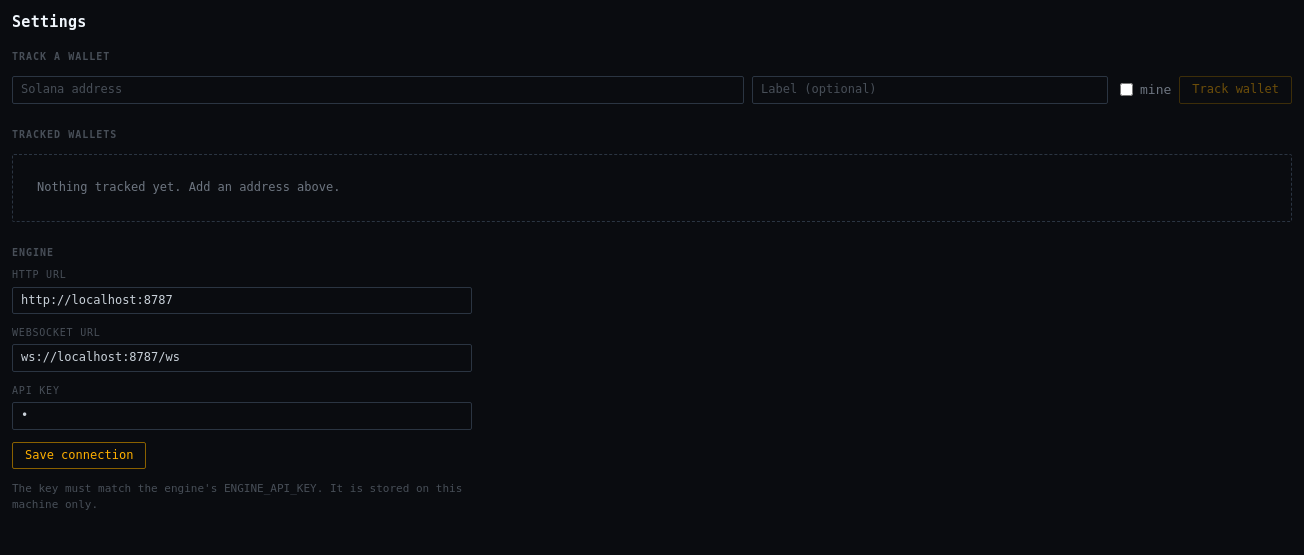
Test: SettingsTab › confirms that the connection was saved
expect the text "Saved. Reconnecting." is not shown: met
Click the button "Save connection": (79, 455) [12, 442, 146, 469]
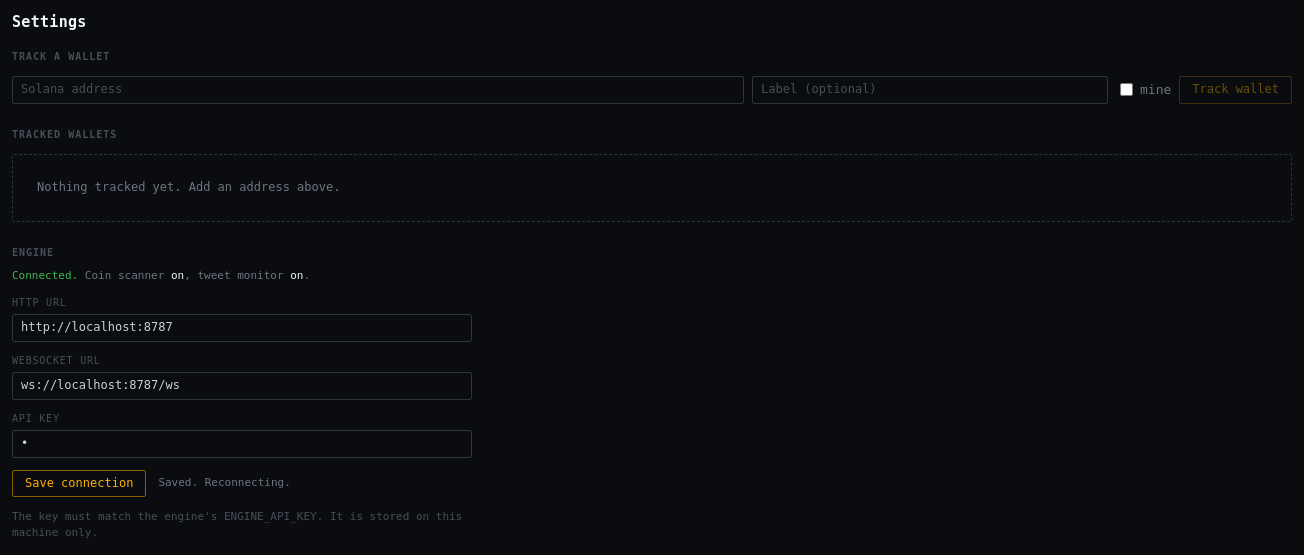
expect the text "Saved. Reconnecting." is shown: met, box [158, 475, 291, 491]
